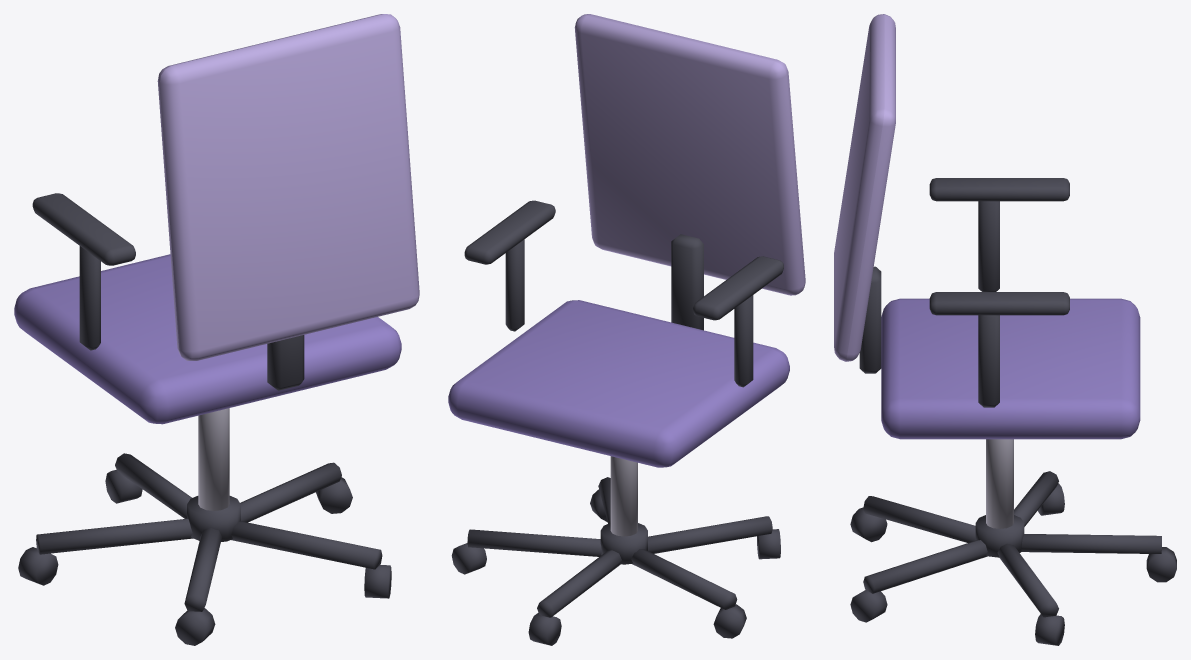
File: junior_office_chair.glb
3 renders of one model, left to right at view 1: azimuth 30°, elevation 25°; view 2: azimuth 150°, elevation 25°; view 3: azimuth 270°, elevation 25°, orthographic. The views are drawn at different scales.
Parts seen in each view (by area): view 1: junior_office_chair__ErgoLavender, junior_office_chair__ErgoLavDark, junior_office_chair__DarkGrey, junior_office_chair__Metal; view 2: junior_office_chair__ErgoLavender, junior_office_chair__ErgoLavDark, junior_office_chair__DarkGrey, junior_office_chair__Metal; view 3: junior_office_chair__ErgoLavDark, junior_office_chair__DarkGrey, junior_office_chair__ErgoLavender, junior_office_chair__Metal.
Part boxes in pixels (bbox=[...]): junior_office_chair__ErgoLavender: bbox=[157, 14, 419, 360]; junior_office_chair__ErgoLavDark: bbox=[14, 254, 401, 424]; junior_office_chair__DarkGrey: bbox=[18, 193, 391, 645]; junior_office_chair__Metal: bbox=[198, 408, 229, 510]; junior_office_chair__ErgoLavender: bbox=[574, 14, 805, 295]; junior_office_chair__ErgoLavDark: bbox=[448, 300, 789, 467]; junior_office_chair__DarkGrey: bbox=[451, 200, 783, 645]; junior_office_chair__Metal: bbox=[610, 456, 637, 536]; junior_office_chair__ErgoLavDark: bbox=[881, 298, 1140, 439]; junior_office_chair__DarkGrey: bbox=[850, 178, 1176, 645]; junior_office_chair__ErgoLavender: bbox=[834, 14, 895, 361]; junior_office_chair__Metal: bbox=[986, 439, 1013, 528].
Bounding box in the file's own units: 0.6363 × 1.05 × 0.6355.
